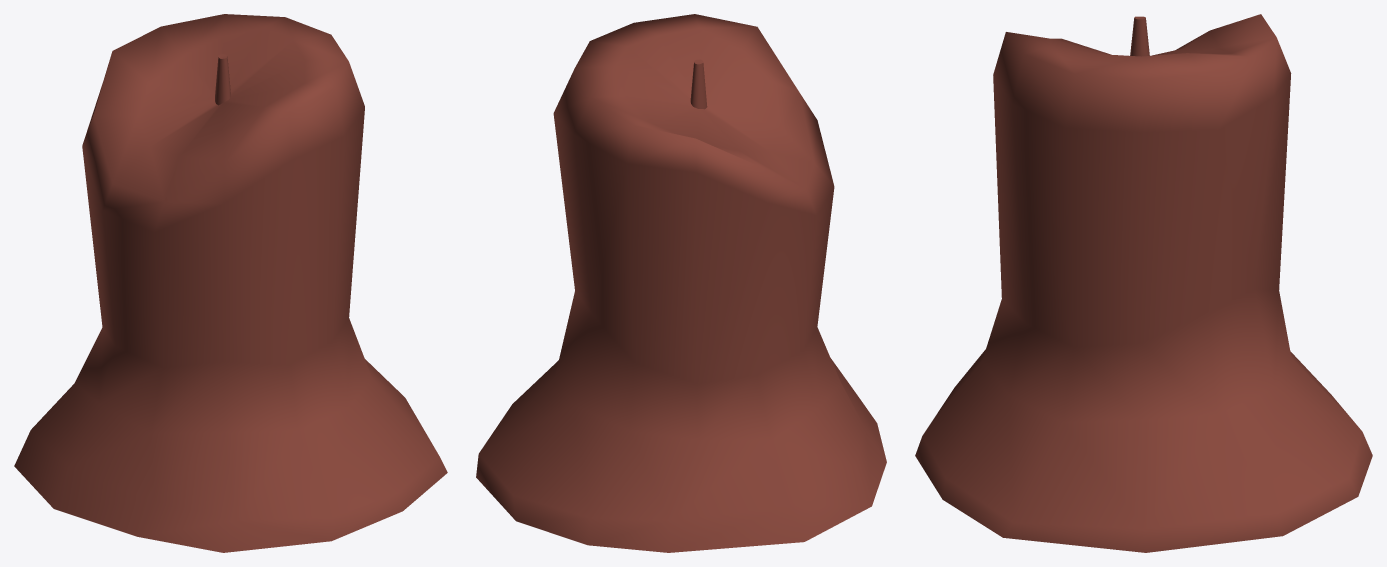
The model's file is Candle_06.fbx.
3 renders of one model, left to right at view 1: azimuth 30°, elevation 25°; view 2: azimuth 150°, elevation 25°; view 3: azimuth 270°, elevation 25°, orthographic. The views are drawn at different scales.
Visible parts, largest first — view 1: Candle_06; view 2: Candle_06; view 3: Candle_06.
Part boxes in pixels (<box>): Candle_06: <box>14,14,447,552</box>; Candle_06: <box>476,14,886,552</box>; Candle_06: <box>915,14,1372,552</box>.
Bounding box in the file's own units: 14.27 × 15.64 × 14.64.
